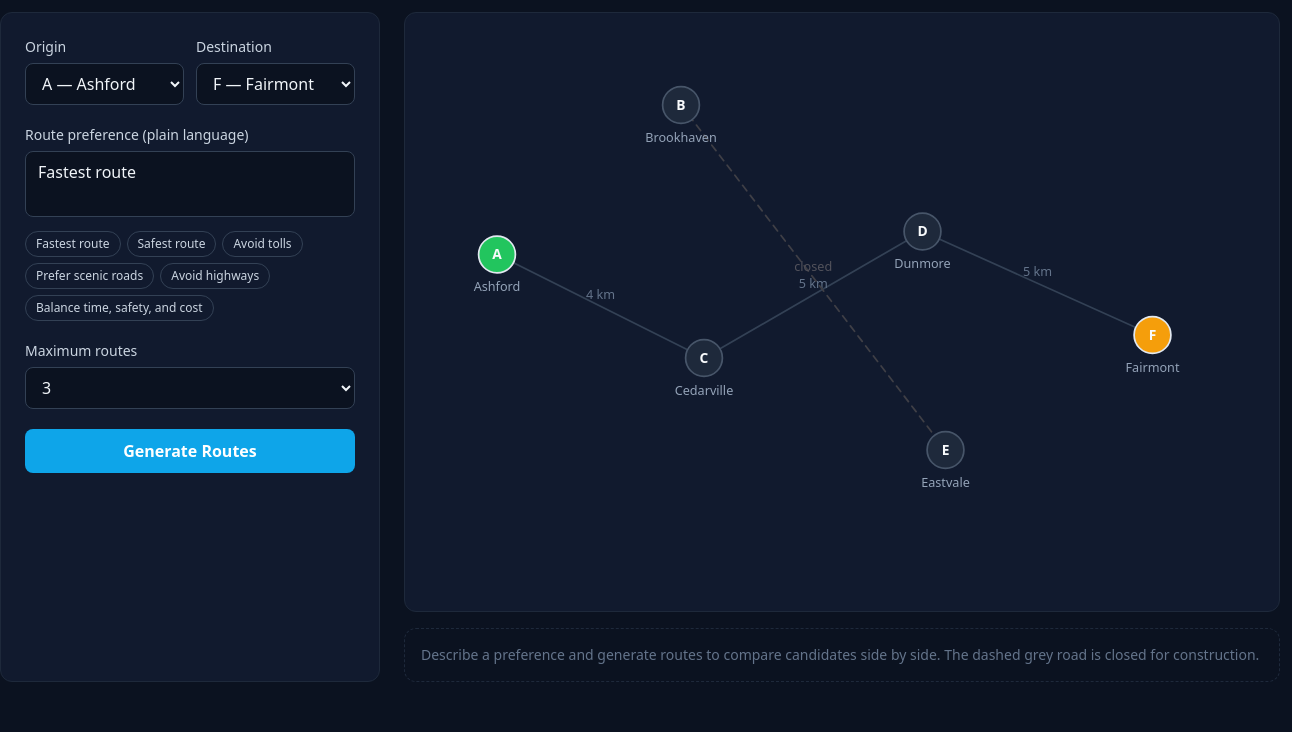
Scenario: RoutePlanner › blocks submission with a validation message when the preference is blank
Expected: the dropdown labelled "Origin" is shown, top-left (25, 63), bottom-right (184, 105)
Clear the text box labelled "Route preference (plain language)" at coordinates (190, 184), box top-left (25, 151), bottom-right (355, 217)
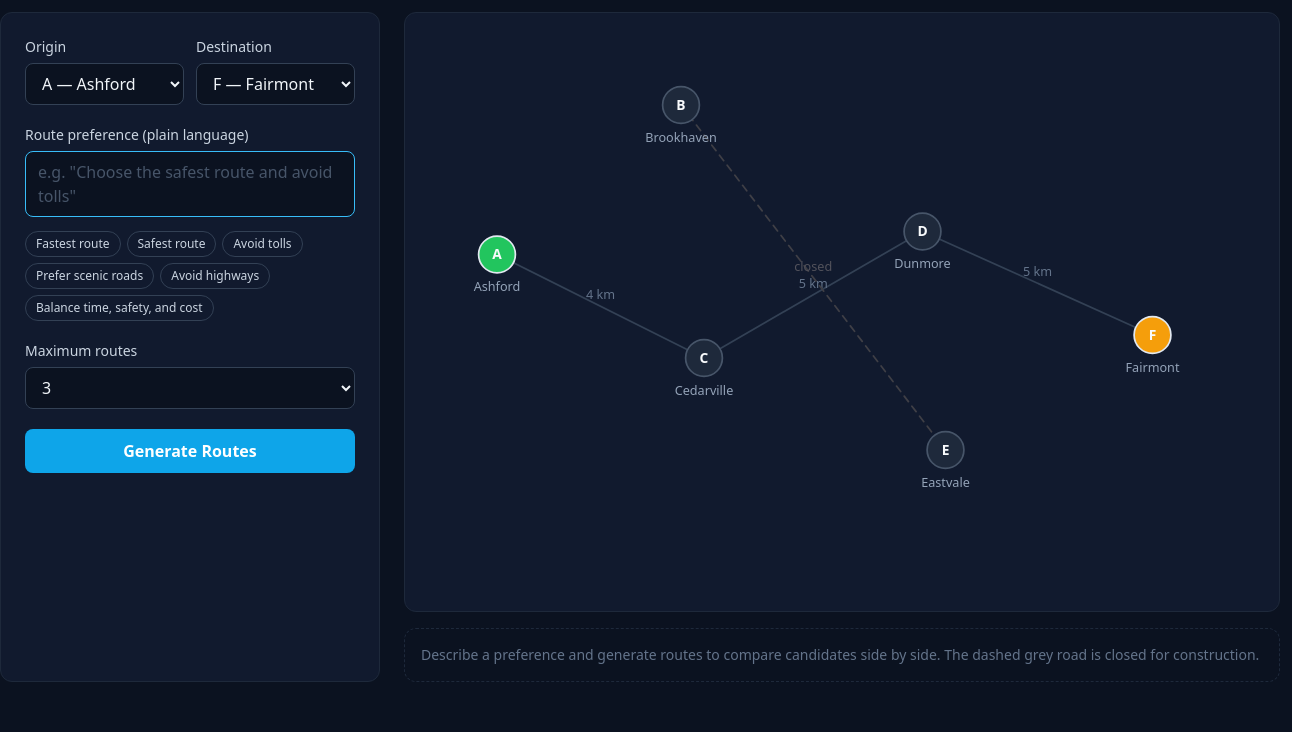
Click the button "Generate Routes" at coordinates (190, 451), box top-left (25, 429), bottom-right (355, 473)
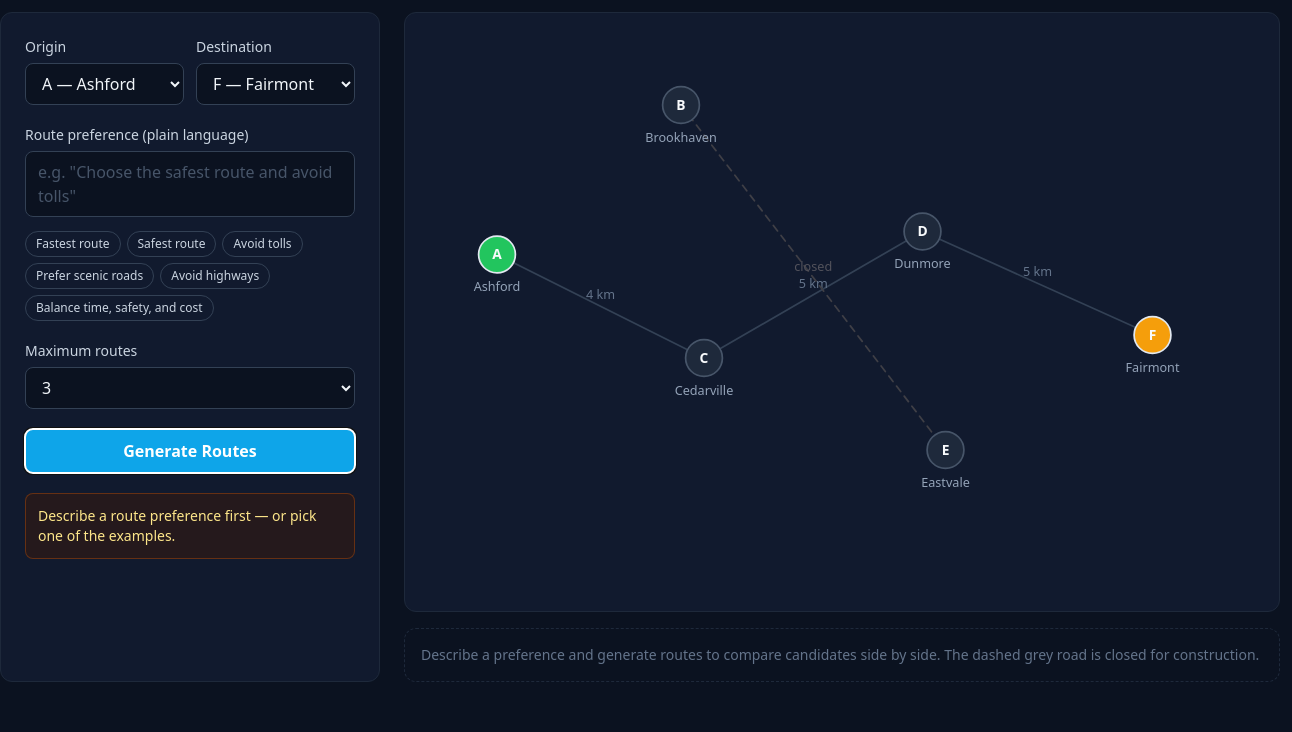
Result: the message shows "Describe a route preference" at top-left (38, 506), bottom-right (316, 545)
